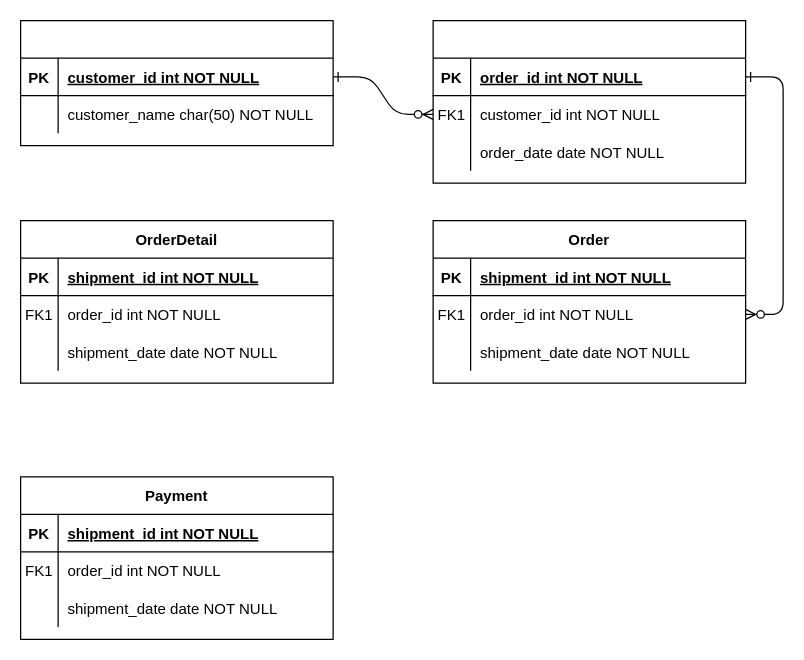
The diagram is 804 pixels wide and 660 high, and some of its shapes have lost their labels. Each missing label, with the box of its shape:
Product: (432, 19, 746, 183)
User: (19, 19, 333, 146)
